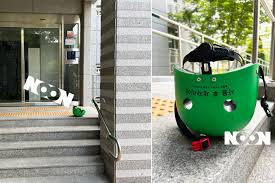guide_blocks: (2, 112, 71, 116), (20, 107, 65, 110)
